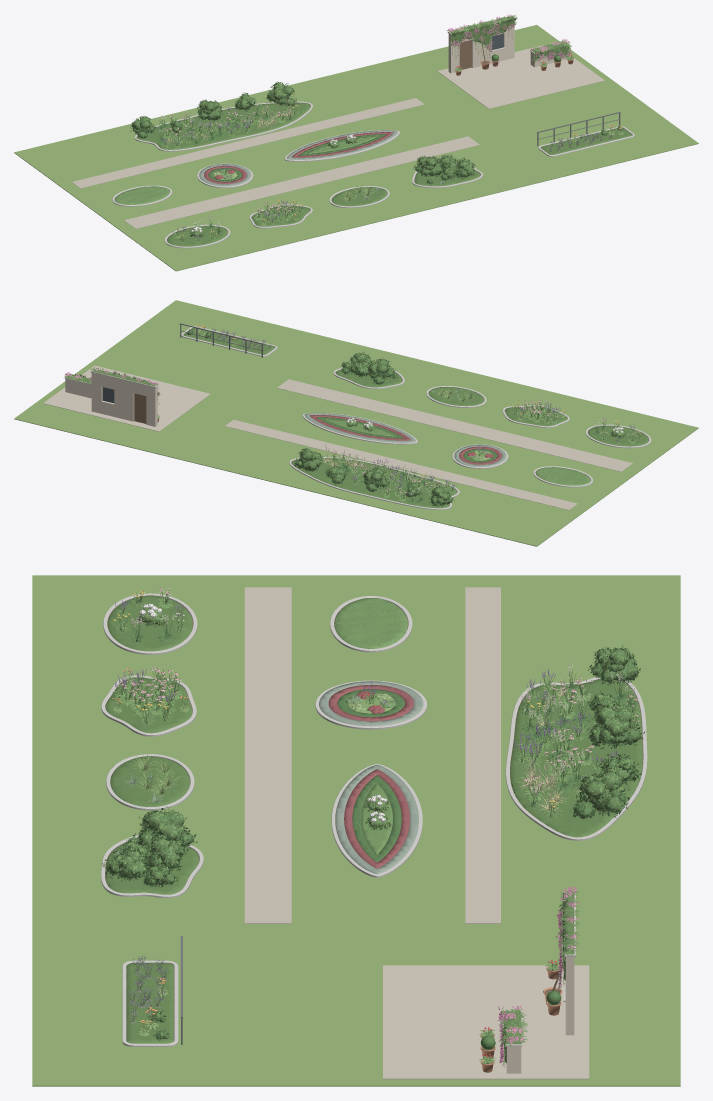
Rendered from clay-planting-kit-showcase-clay-v003.glb.
3 renders of one model, top to bottom at view 1: azimuth 30°, elevation 25°; view 2: azimuth 150°, elevation 25°; view 3: azimuth 270°, elevation 25°, orthographic. The views are drawn at different scales.
Visible parts, largest first — view 1: CLAY_GRASS, CLAY_GRAVEL, CLAY_PK_GROUNDCOVER, CLAY_PAVING, CLAY_GRANITE, CLAY_STUCCO, CLAY_PK_LEAF, CLAY_PK_LEAF_SILVER, CLAY_PK_LEAF_RED, CLAY_PK_SHRUB_CORE, CLAY_PK_LEAF_DARK, CLAY_RAIL_STEEL; view 2: CLAY_GRASS, CLAY_GRAVEL, CLAY_PK_GROUNDCOVER, CLAY_GRANITE, CLAY_PAVING, CLAY_STUCCO, CLAY_PK_LEAF, CLAY_PK_LEAF_SILVER, CLAY_PK_LEAF_RED, CLAY_PK_LEAF_DARK, CLAY_RAIL_STEEL; view 3: CLAY_GRASS, CLAY_GRAVEL, CLAY_PK_GROUNDCOVER, CLAY_PAVING, CLAY_GRANITE, CLAY_PK_LEAF, CLAY_PK_LEAF_SILVER, CLAY_PK_LEAF_RED, CLAY_PK_LEAF_DARK, shrub_sh16 pk_leaf_dark 60, CLAY_STUCCO, shrub_sh16 pk_leaf_dark 58 (+6 smaller).
Part boxes in pixels (bbox=[...]): CLAY_GRASS: bbox=[14, 25, 698, 271]; CLAY_GRAVEL: bbox=[72, 98, 479, 228]; CLAY_PK_GROUNDCOVER: bbox=[137, 102, 632, 246]; CLAY_PAVING: bbox=[437, 42, 604, 108]; CLAY_GRANITE: bbox=[112, 101, 634, 248]; CLAY_STUCCO: bbox=[448, 26, 568, 73]; CLAY_PK_LEAF: bbox=[114, 136, 378, 204]; CLAY_PK_LEAF_SILVER: bbox=[199, 130, 397, 186]; CLAY_PK_LEAF_RED: bbox=[204, 132, 392, 183]; CLAY_PK_SHRUB_CORE: bbox=[451, 16, 568, 59]; CLAY_PK_LEAF_DARK: bbox=[208, 134, 386, 181]; CLAY_RAIL_STEEL: bbox=[537, 112, 620, 146]; CLAY_GRASS: bbox=[14, 300, 698, 546]; CLAY_GRAVEL: bbox=[225, 379, 632, 510]; CLAY_PK_GROUNDCOVER: bbox=[183, 327, 648, 508]; CLAY_GRANITE: bbox=[181, 326, 651, 509]; CLAY_PAVING: bbox=[43, 365, 210, 431]; CLAY_STUCCO: bbox=[65, 373, 157, 426]; CLAY_PK_LEAF: bbox=[324, 418, 590, 485]; CLAY_PK_LEAF_SILVER: bbox=[304, 413, 506, 466]; CLAY_PK_LEAF_RED: bbox=[309, 415, 501, 464]; CLAY_PK_LEAF_DARK: bbox=[316, 417, 497, 462]; CLAY_RAIL_STEEL: bbox=[180, 323, 263, 357]; CLAY_GRASS: bbox=[32, 575, 680, 1086]; CLAY_GRAVEL: bbox=[244, 587, 500, 923]; CLAY_PK_GROUNDCOVER: bbox=[105, 595, 642, 1043]; CLAY_PAVING: bbox=[383, 965, 589, 1079]; CLAY_GRANITE: bbox=[101, 593, 647, 1046]; CLAY_PK_LEAF: bbox=[334, 598, 407, 854]; CLAY_PK_LEAF_SILVER: bbox=[319, 681, 423, 874]; CLAY_PK_LEAF_RED: bbox=[328, 685, 413, 868]; CLAY_PK_LEAF_DARK: bbox=[337, 689, 404, 862]; shrub_sh16 pk_leaf_dark 60: bbox=[569, 771, 630, 819]; CLAY_STUCCO: bbox=[506, 957, 574, 1073]; shrub_sh16 pk_leaf_dark 58: bbox=[586, 706, 644, 749].
Size of the model in its own units: 41 by 3.32 by 22.
